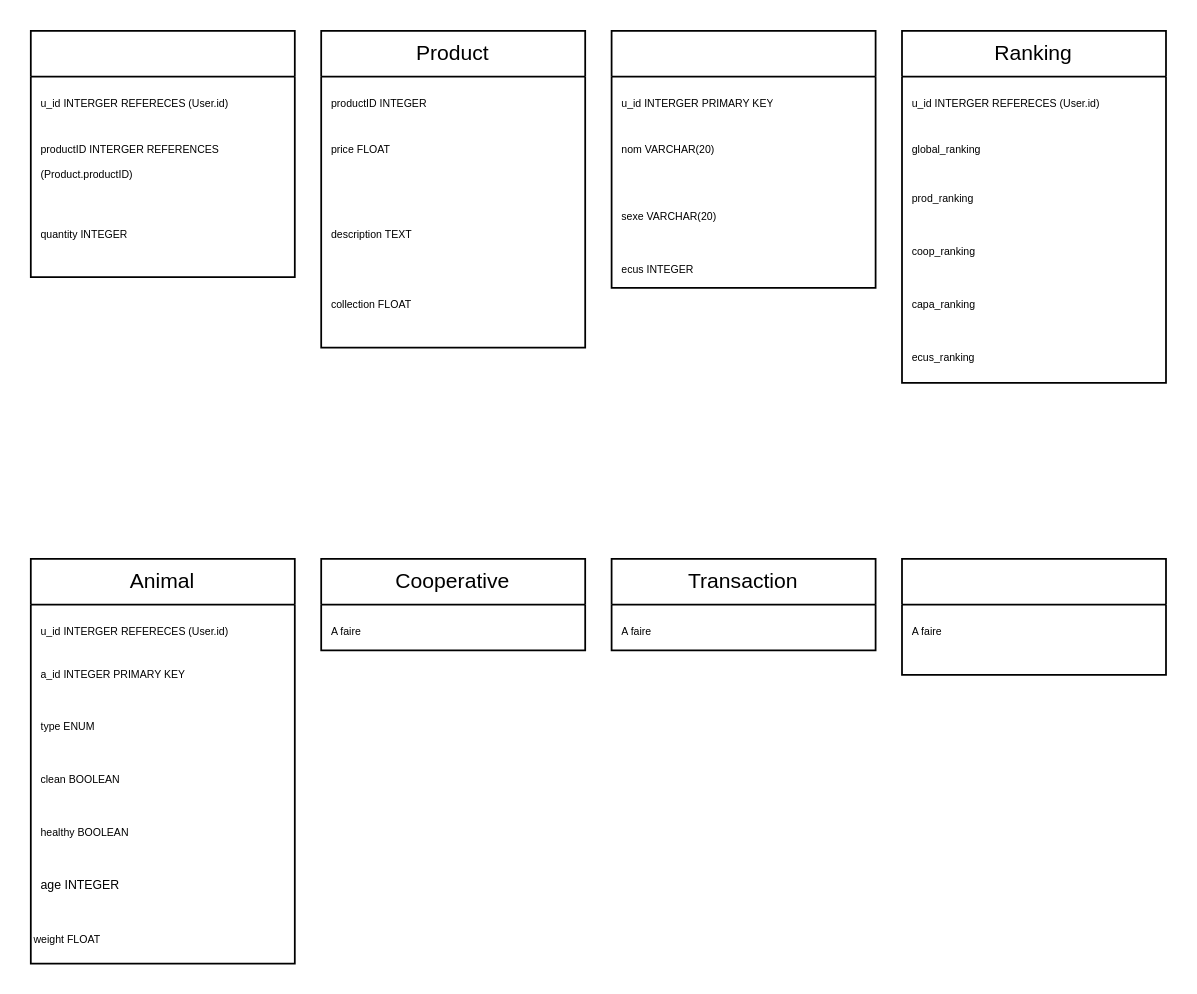
Image size: 1197x994. Some labels were removed from this diagram. The shapes that lost their labels are listed below. From the top down, each one's box as (x1, y1, x2, y2) in pixels, then its label:
(29, 29, 295, 277): Stock
(610, 29, 876, 288): User
(900, 557, 1166, 675): Market
